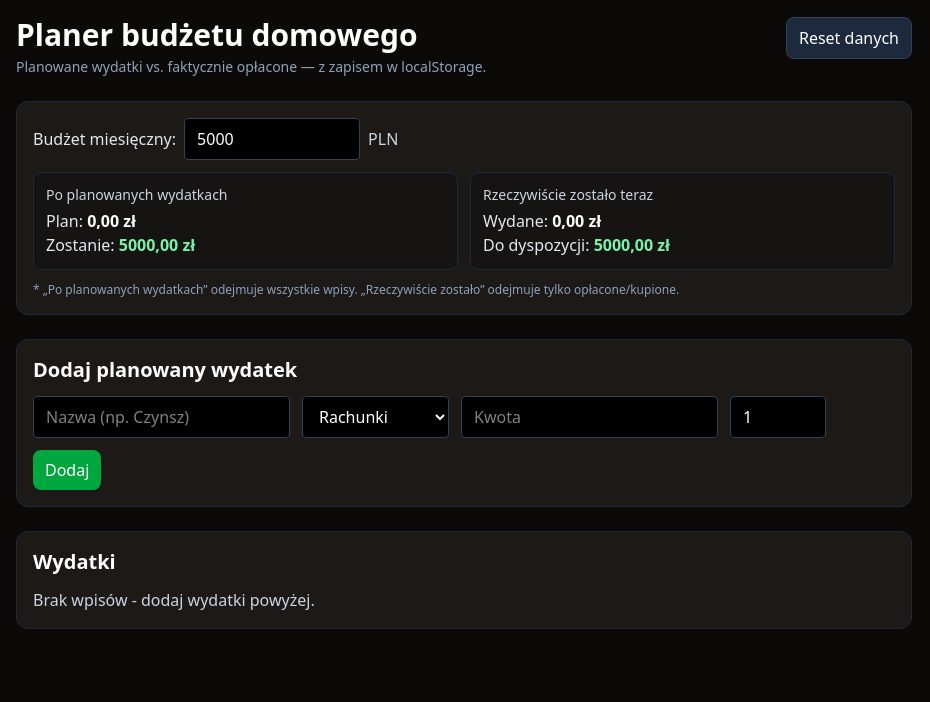
App integration › resets state to defaults
Replace the text in the number field labelled "Budżet miesięczny: PLN" with "1500": (272, 139) left=184, top=118, right=360, bottom=160
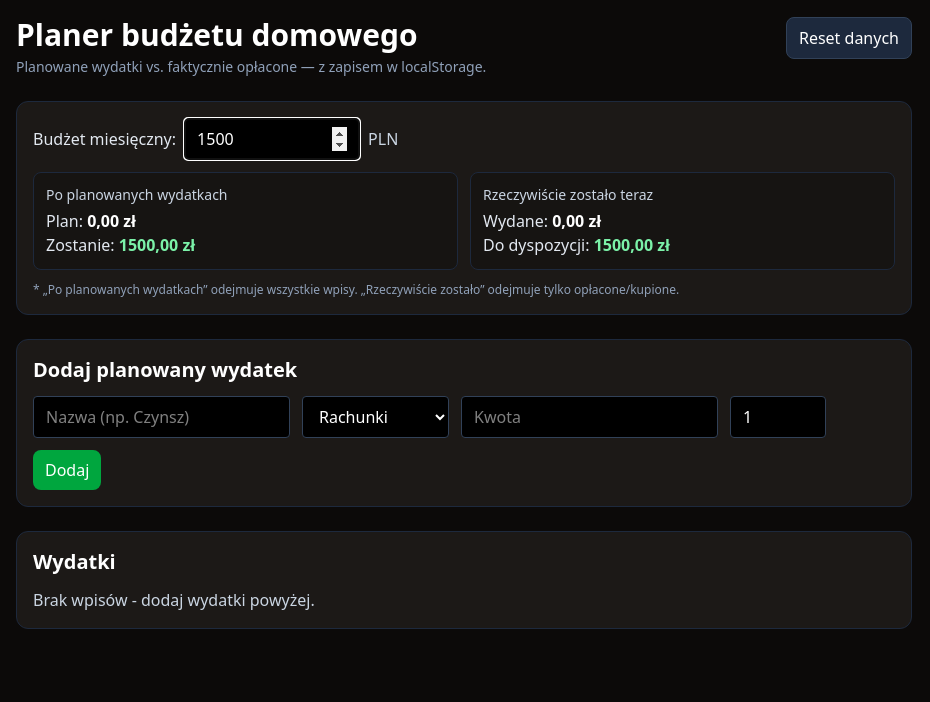
In the field with placeholder "Nazwa (np. Czynsz)": (162, 417) left=33, top=396, right=290, bottom=438, type "Prad"
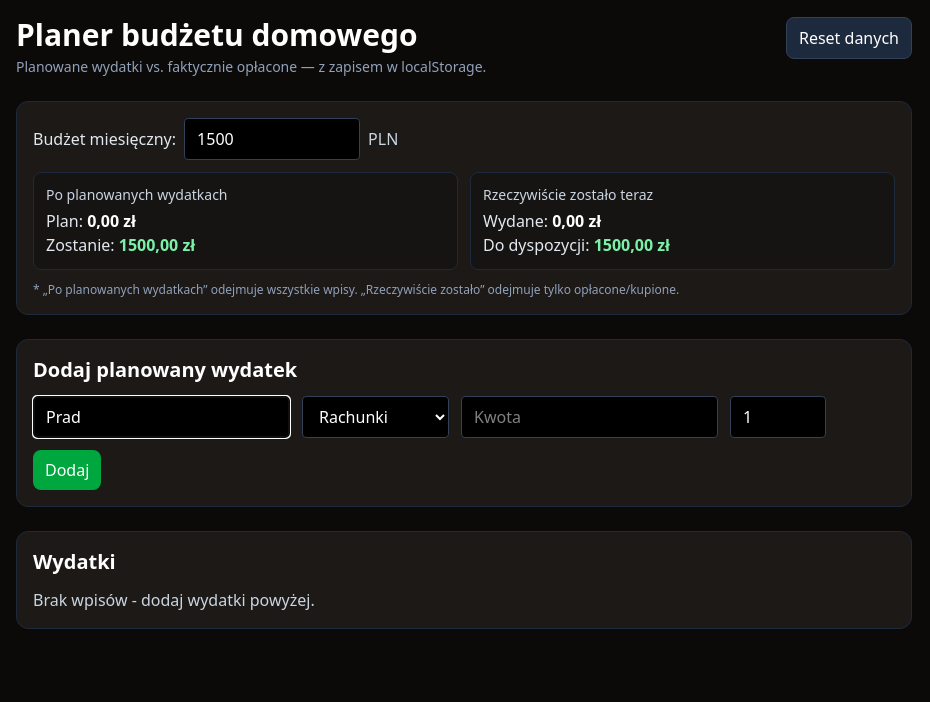
In the number field with placeholder "Kwota": (590, 417) left=461, top=396, right=718, bottom=438, type "300"
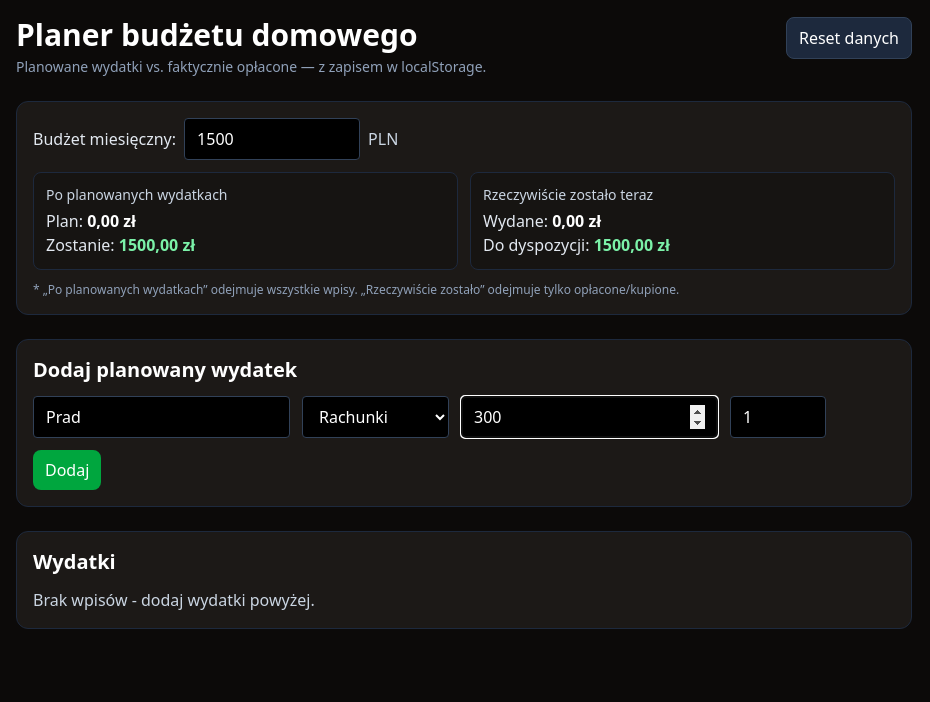
Click the button "Dodaj": (67, 470) left=33, top=450, right=101, bottom=490
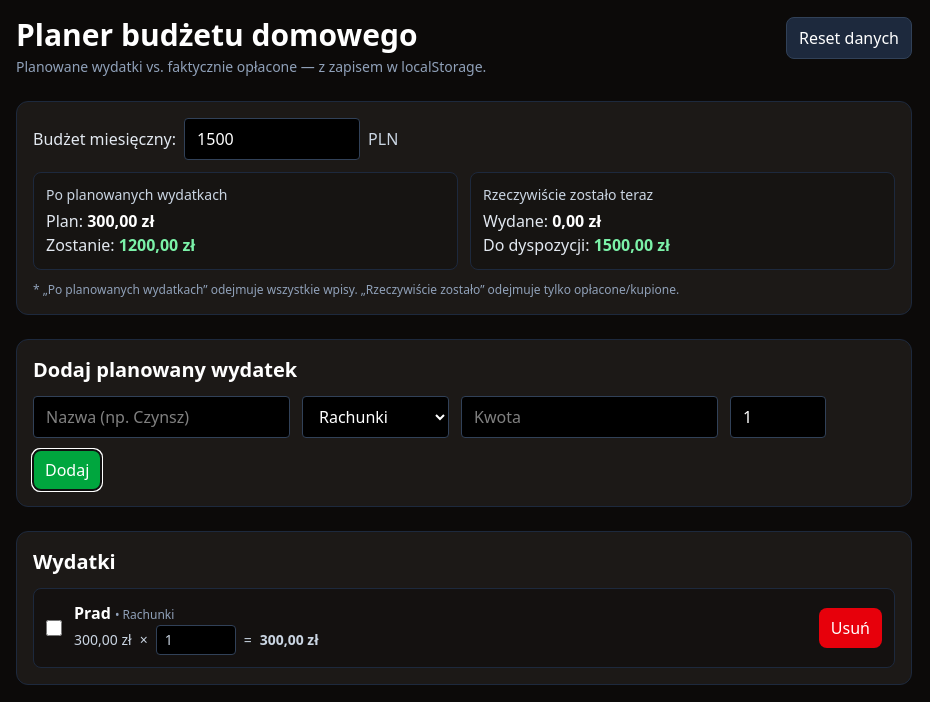
Now the text "Prad" is shown, box left=74, top=602, right=111, bottom=624
Click the button "Reset danych": (849, 38) left=786, top=17, right=912, bottom=59
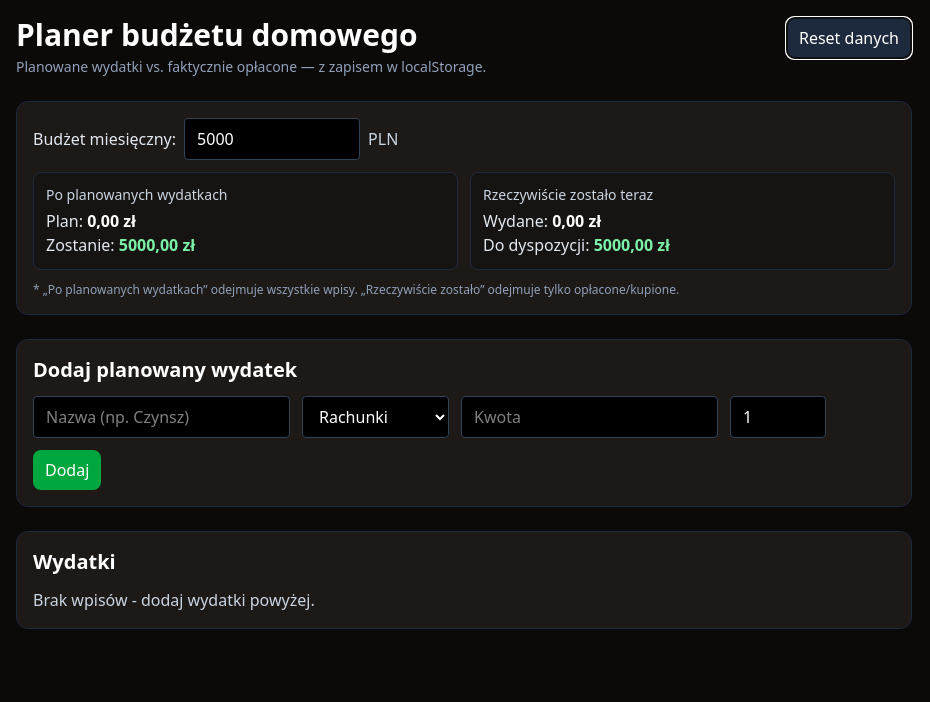
Now the number field labelled "Budżet miesięczny: PLN" holds "5000", box left=184, top=118, right=360, bottom=160
Now the text "Prad" is gone
Now the text "Brak wpisów - dodaj wydatki powyżej." is shown, box left=33, top=589, right=315, bottom=611
